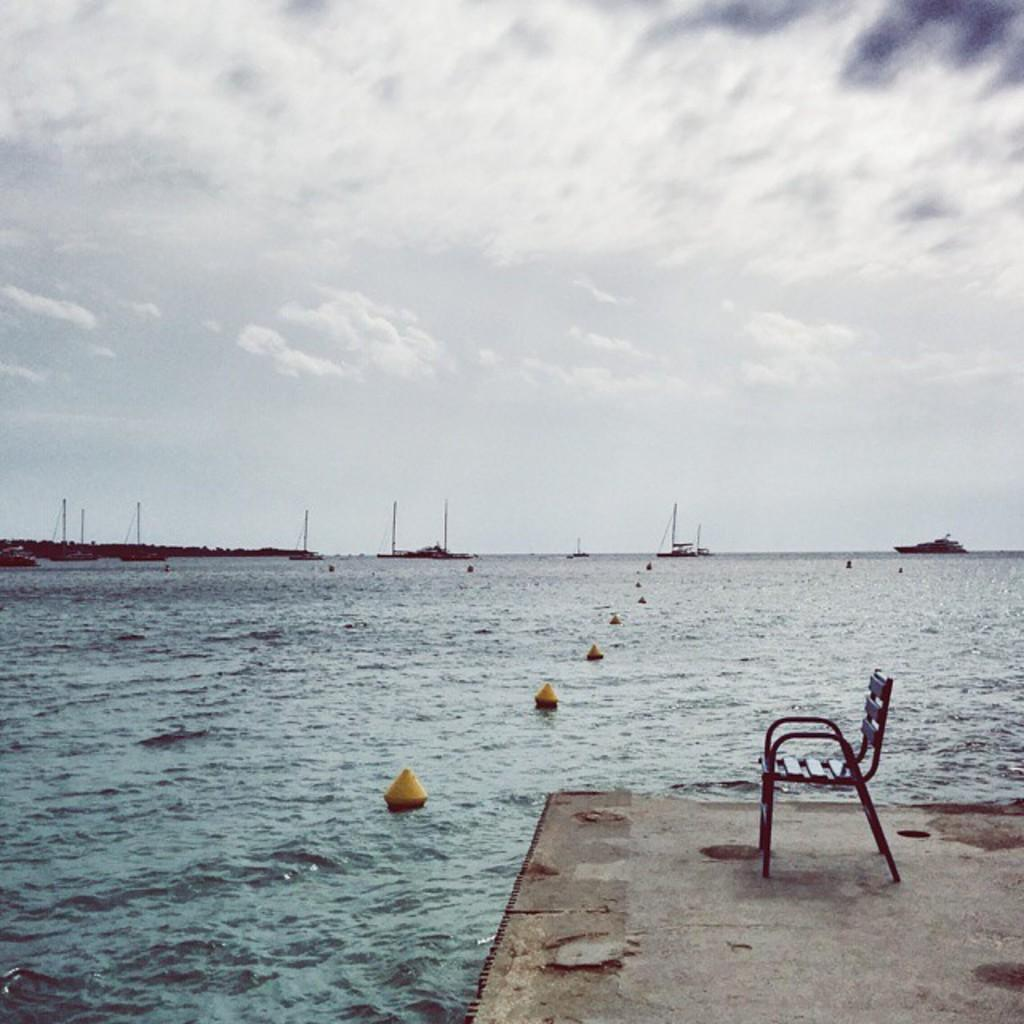Chair: (771, 675, 926, 896)
